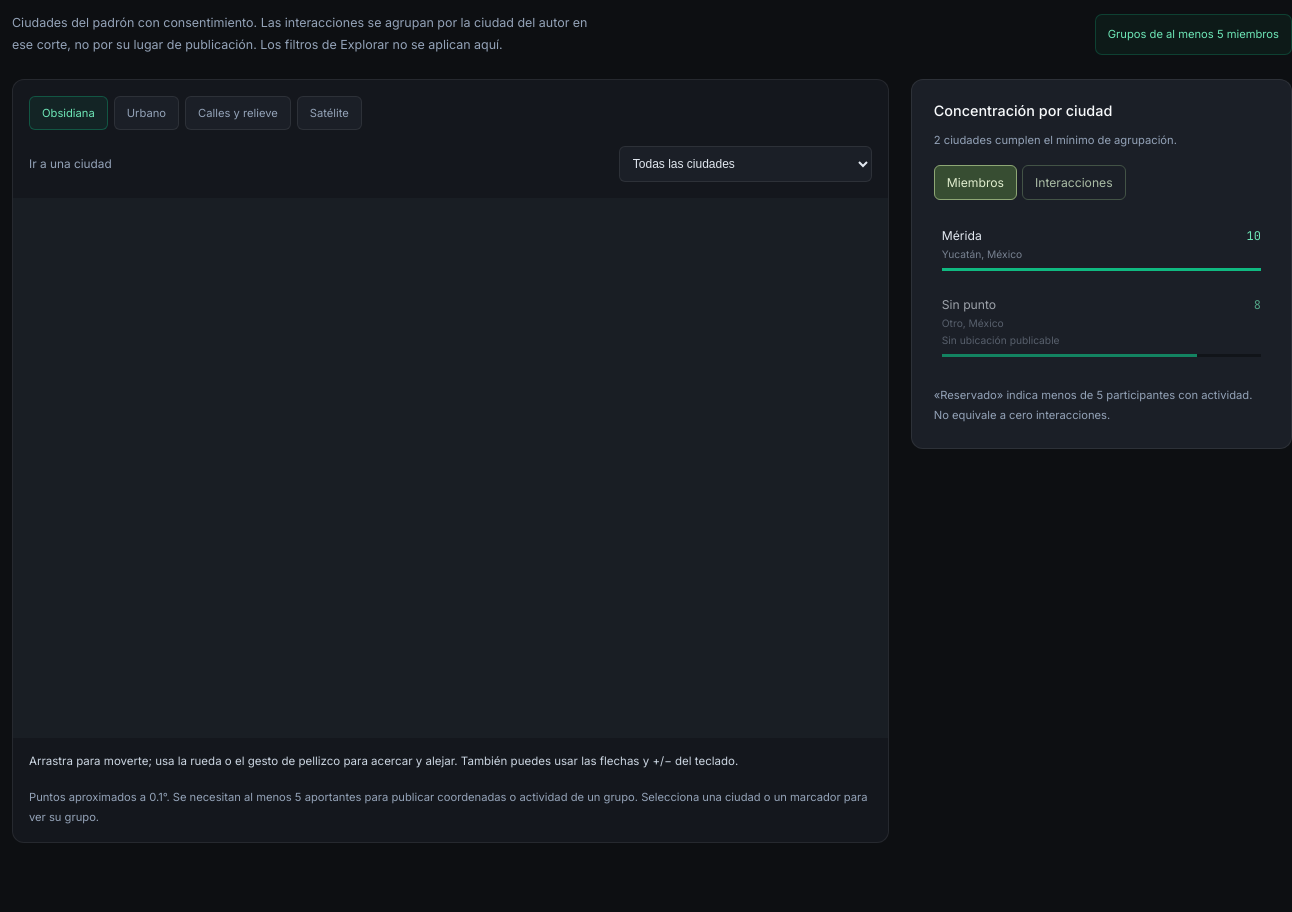
it: conserva las clases de Leaflet al alternar estilos y permite zoom y movimiento por gestos
The width and height of the screenshot is (1292, 912).
Click the button "Urbano" at (146, 113), box [114,96,179,130]
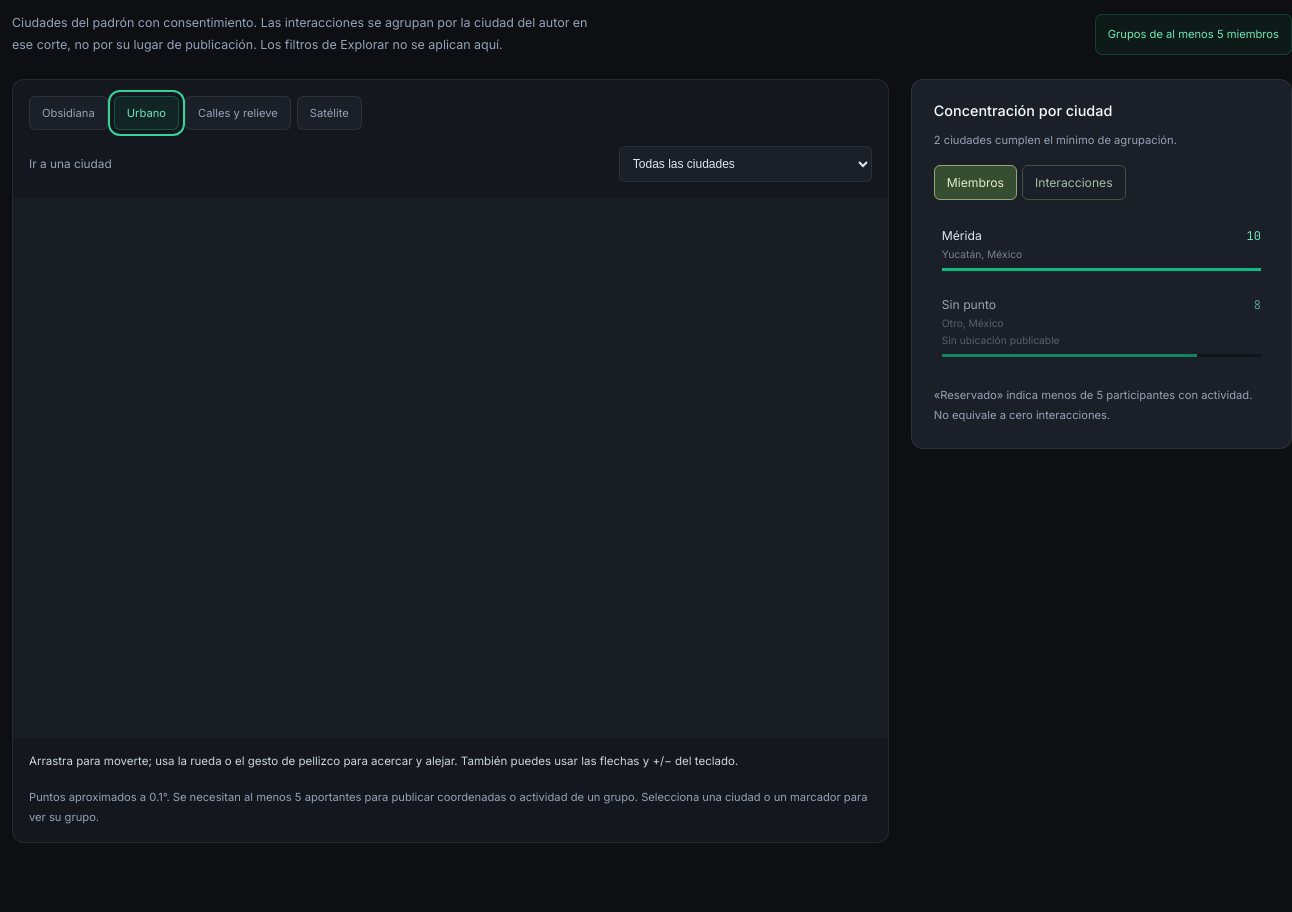
Check: the button "Urbano" is pressed, box [114,96,179,130]
Click the button "Calles y relieve" at (238, 113), box [185,96,291,130]
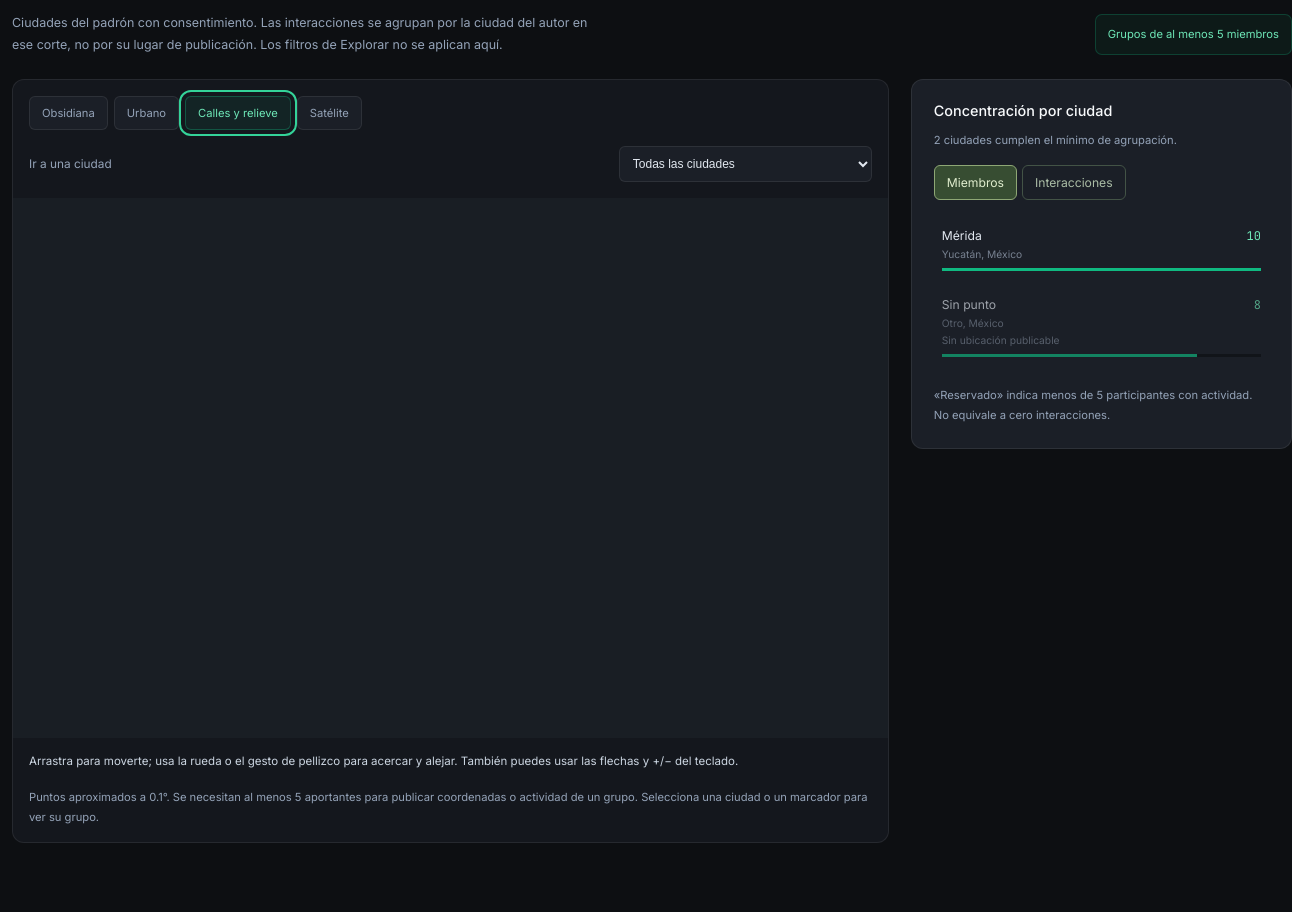
Check: the button "Calles y relieve" is pressed, box [185,96,291,130]
Click the button "Satélite" at (329, 113), box [297,96,362,130]
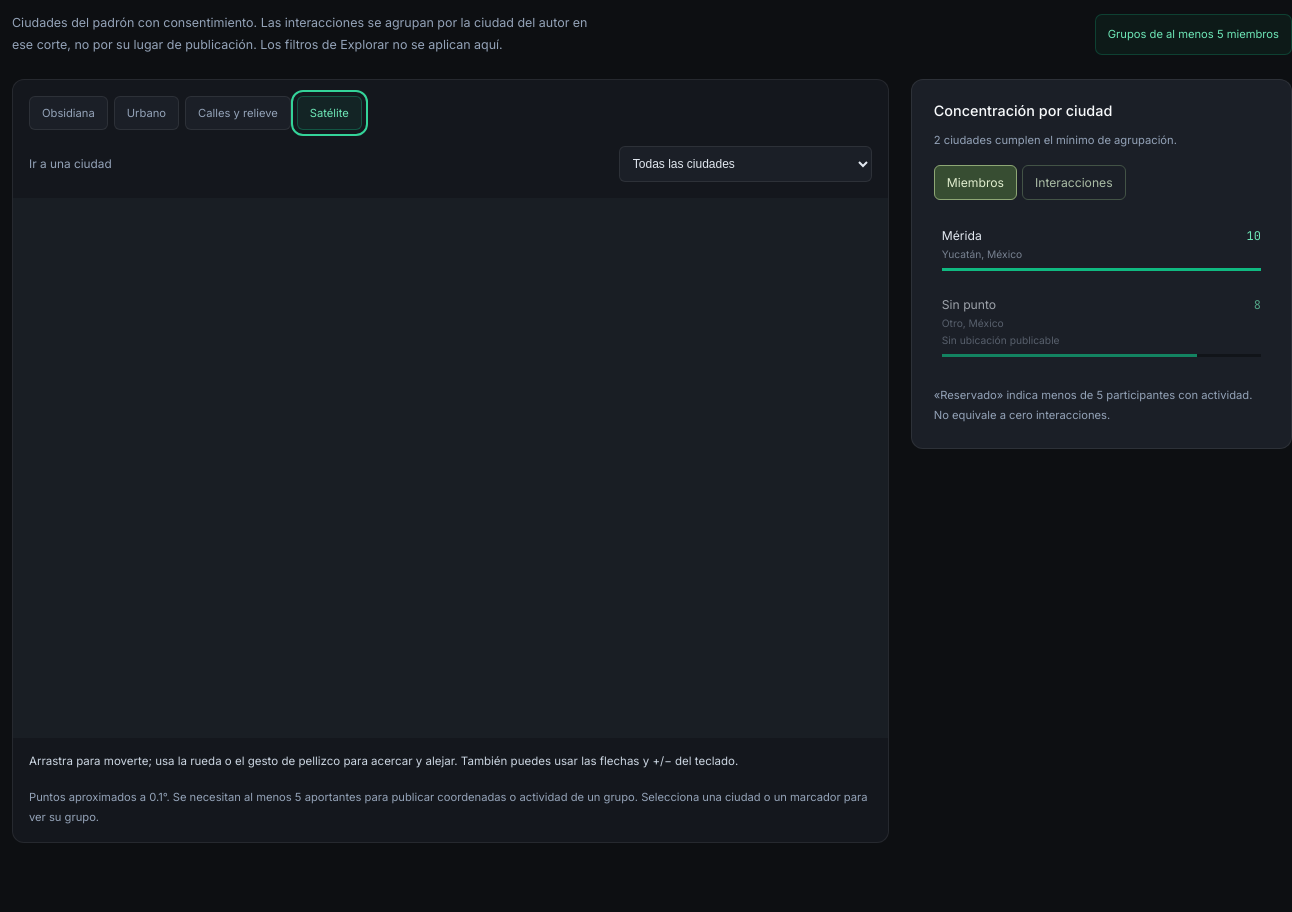
Check: the button "Satélite" is pressed, box [297,96,362,130]
Click the button "Obsidiana" at (68, 113), box [29,96,108,130]
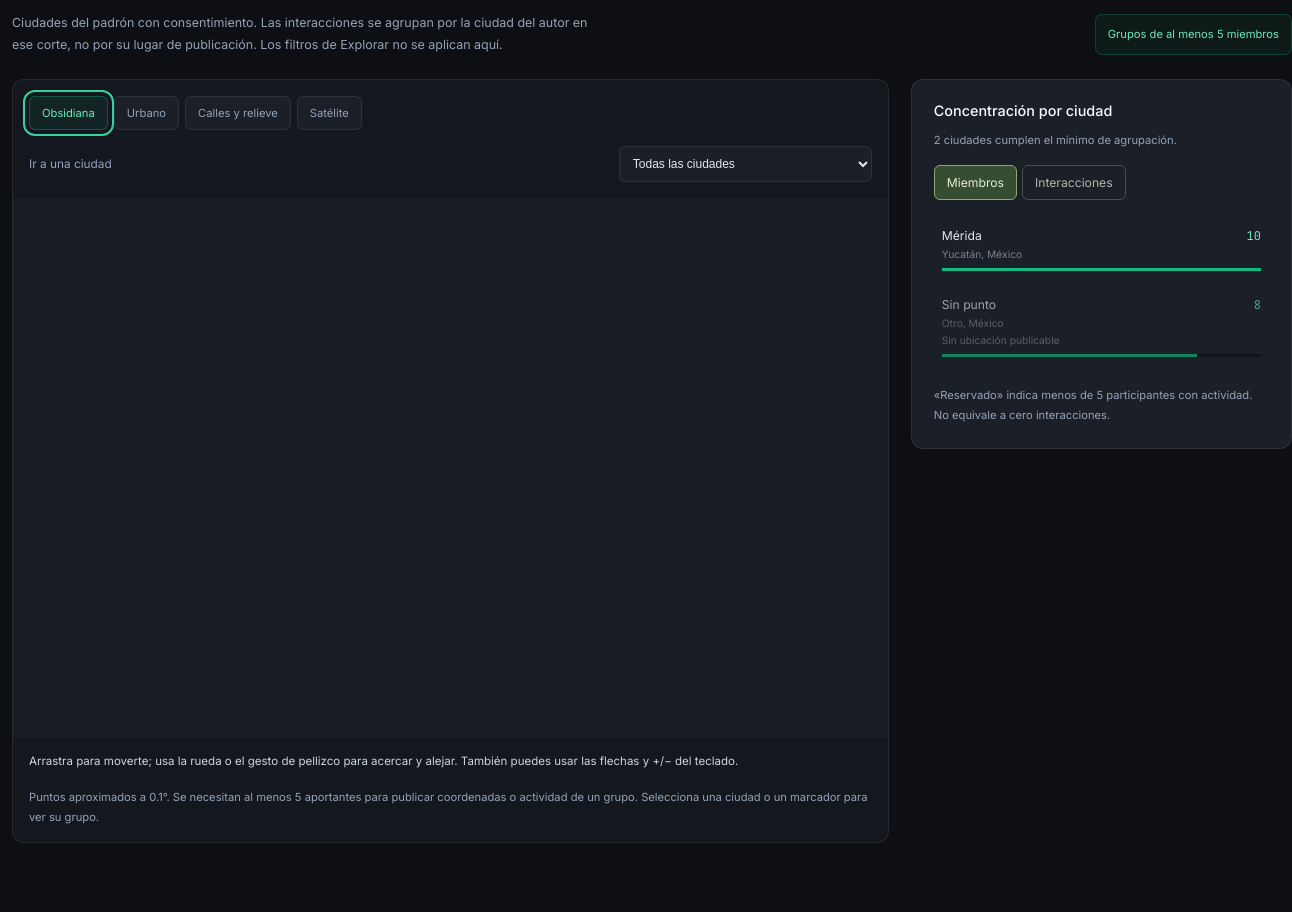
Check: the button "Obsidiana" is pressed, box [29,96,108,130]
